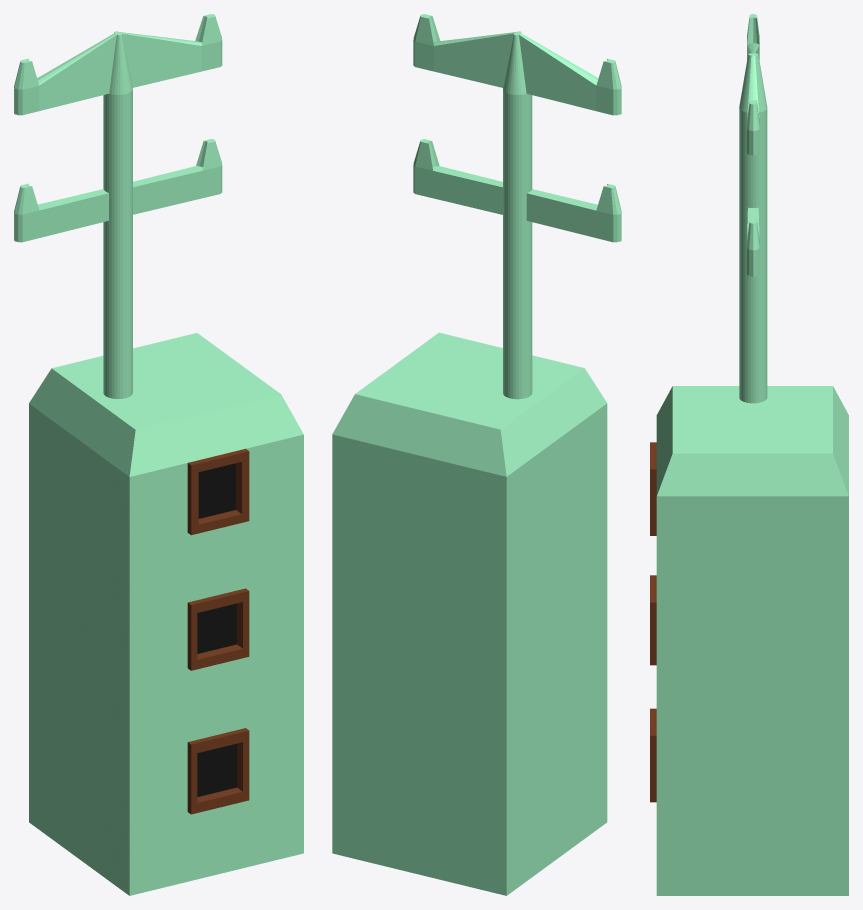
The model's file is BuildingDemoWithAntenna.fbx.
3 views of the same model, side by side, from view 1: azimuth 30°, elevation 25°; view 2: azimuth 150°, elevation 25°; view 3: azimuth 270°, elevation 25° (orthographic). The views are drawn at different scales.
Visible parts, largest first — view 1: Cube; view 2: Cube; view 3: Cube.
Boxes of the visible parts, left/top/right/bottom form: Cube: left=14, top=14, right=303, bottom=895; Cube: left=332, top=14, right=621, bottom=895; Cube: left=650, top=14, right=848, bottom=895.
Bounding box in the file's own units: 274 × 895 × 207.
